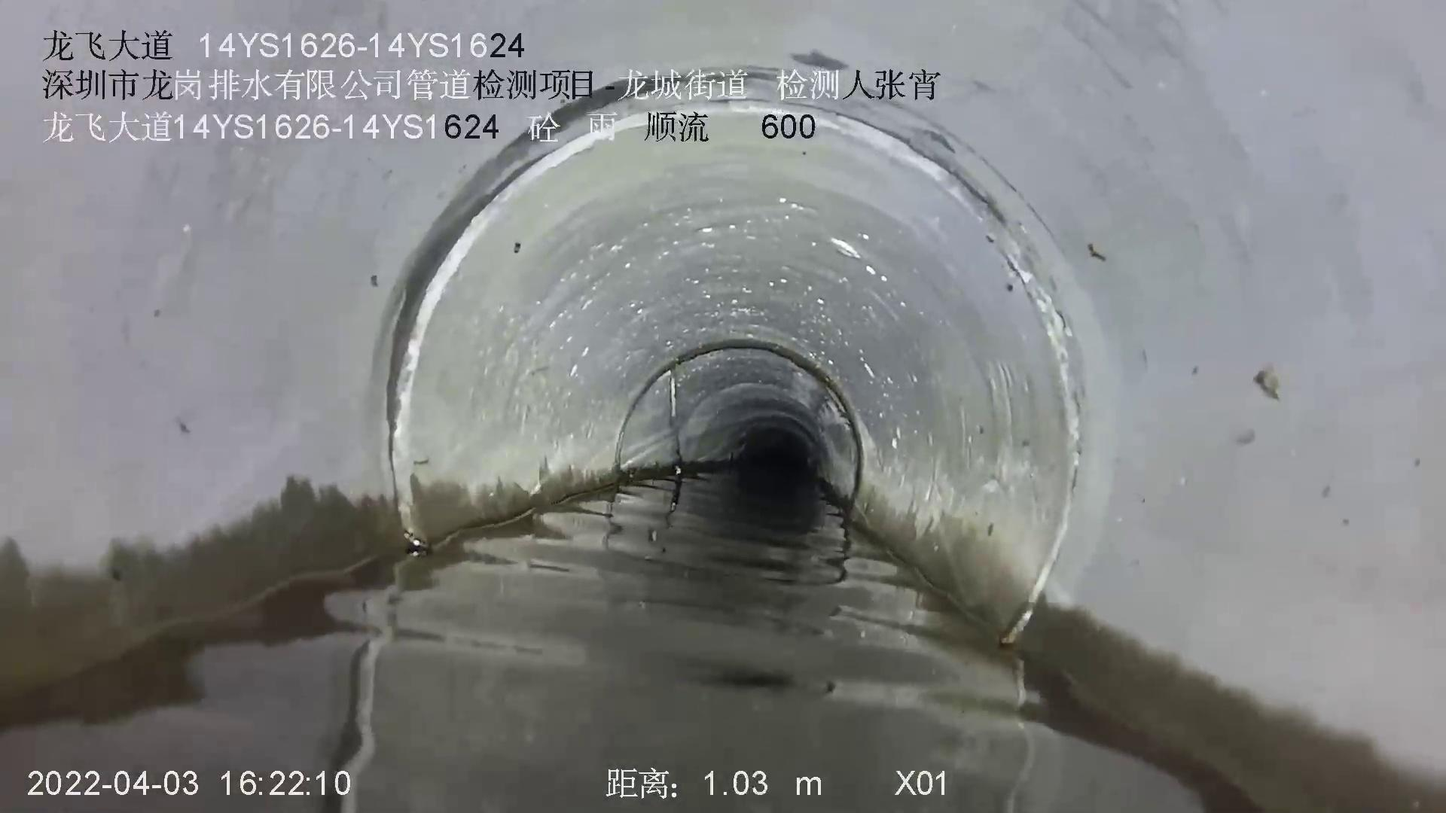CKTJ: (386, 100, 1084, 644)
